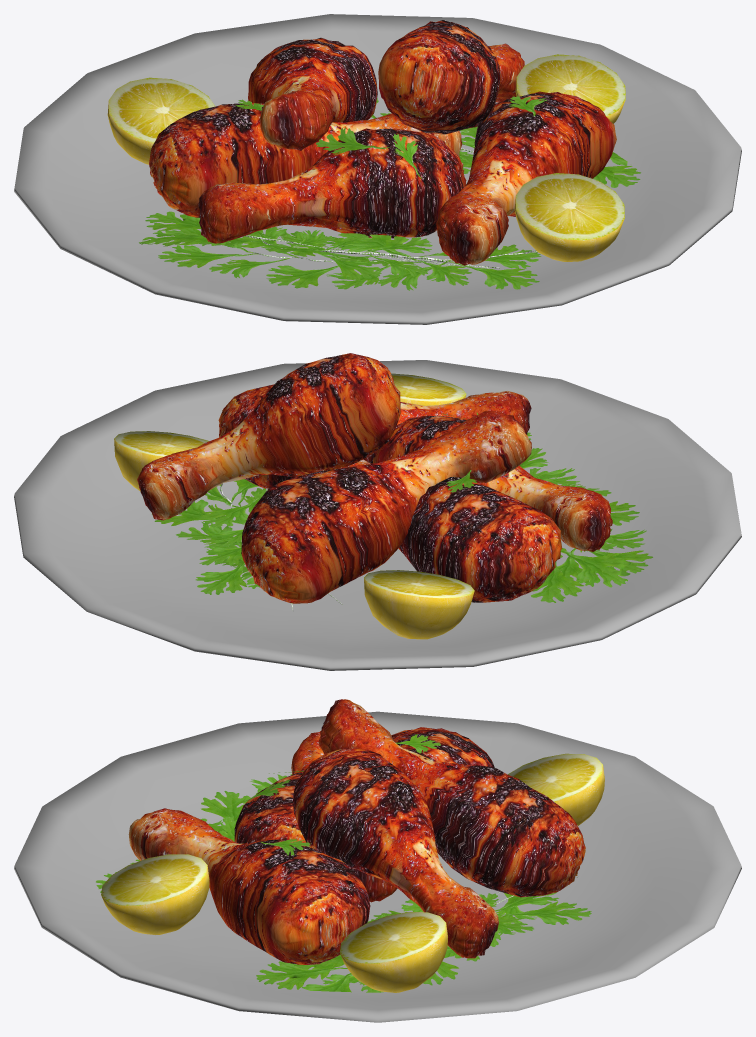
Rendered from chiken.obj.
3 renders of one model, top to bottom at view 1: azimuth 30°, elevation 25°; view 2: azimuth 150°, elevation 25°; view 3: azimuth 270°, elevation 25°, orthographic.
Visible parts, largest first — view 1: Sphere004_Untitled.002; view 2: Sphere004_Untitled.002; view 3: Sphere004_Untitled.002.
Part boxes in pixels (<box>): Sphere004_Untitled.002: <box>14,14,741,324</box>; Sphere004_Untitled.002: <box>14,353,741,670</box>; Sphere004_Untitled.002: <box>14,699,741,1022</box>.
Bounding box in the file's own units: 15.82 × 4.07 × 15.82.
Materials: 6 (5 with a texture image).
